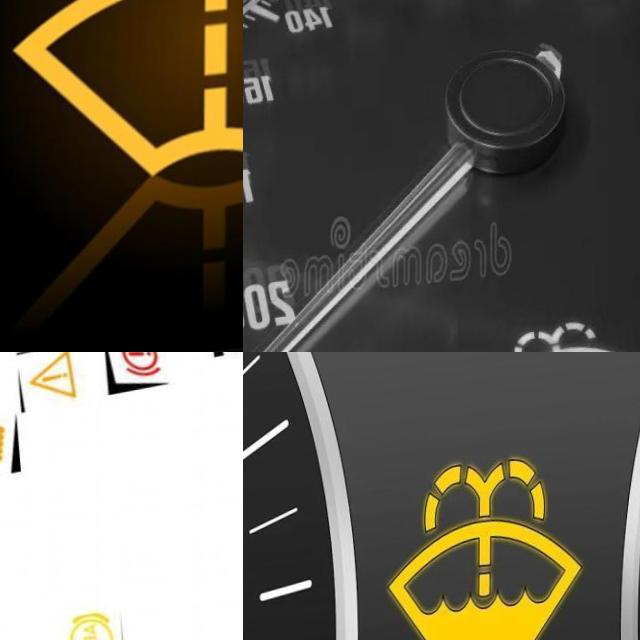Washer Fluid: (386, 458, 583, 640), (498, 327, 628, 352)
